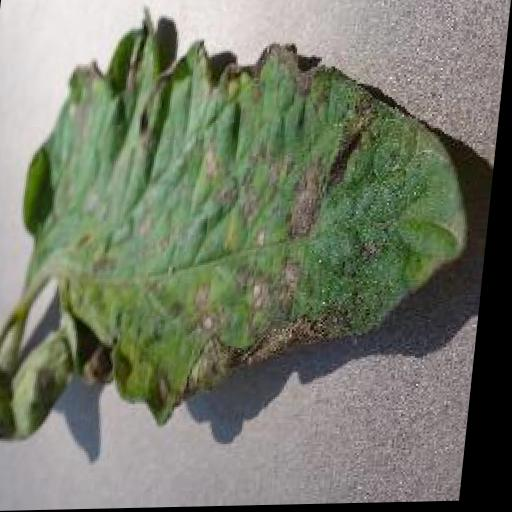Early Blight: (11, 28, 491, 424)
